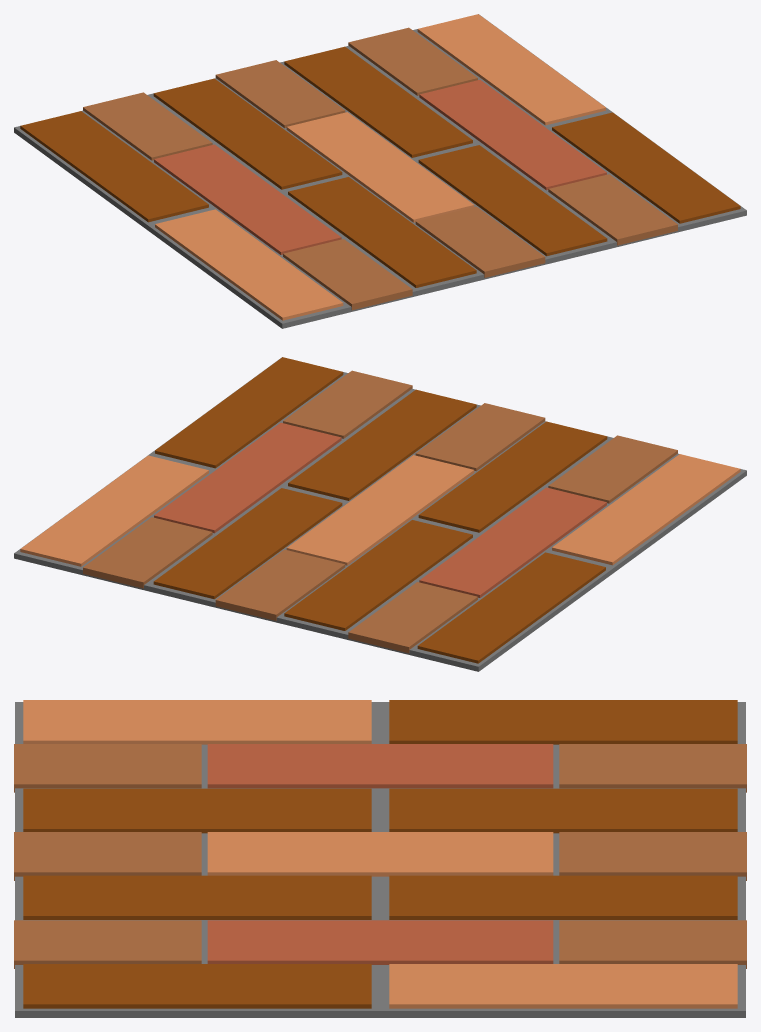
File: Floor Boards.fbx
The picture shows the model from 3 angles, top to bottom: view 1: azimuth 30°, elevation 25°; view 2: azimuth 150°, elevation 25°; view 3: azimuth 270°, elevation 25°; orthographic projection. The views are drawn at different scales.
Visible parts, largest first — view 1: Cube.001; view 2: Cube.001; view 3: Cube.001.
Boxes of the visible parts, left/top/right/bottom form: Cube.001: left=14, top=14, right=746, bottom=328; Cube.001: left=14, top=357, right=746, bottom=671; Cube.001: left=14, top=700, right=746, bottom=1017.
Bounding box in the file's own units: 200 × 3.36 × 201.
